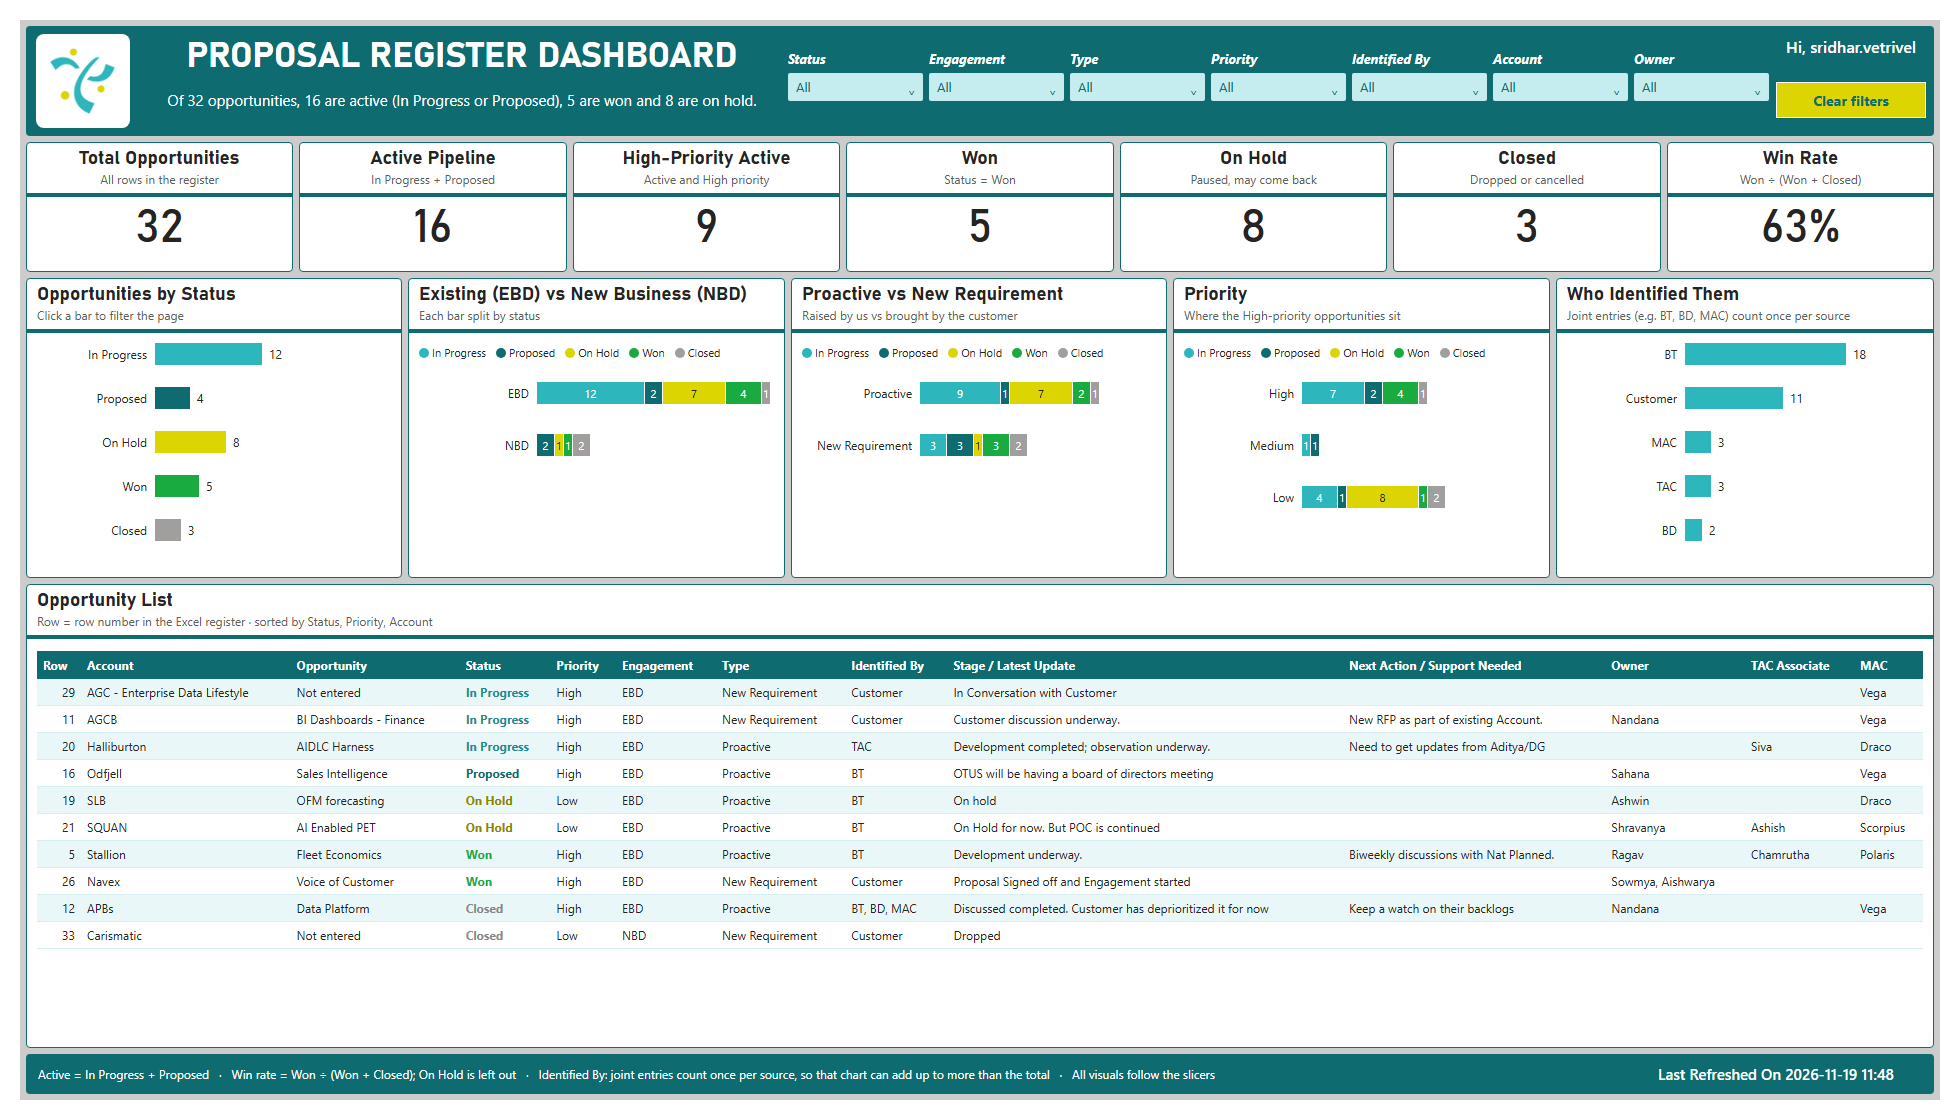

Layout of this report page (visuals, bound fields, positions):
{"tool":"powerbi","page":{"name":"Proposal Register","canvas":[1920,1080],"ordinal":0},"visuals":[{"type":"textbox","box":[6,6,1908,110],"z":0},{"type":"textbox","box":[6,1034,1908,40],"z":1},{"type":"image","box":[16,14,94,94],"z":2000},{"type":"textbox","box":[122,10,660,60],"z":3000},{"type":"card","fields":{"Values":["Proactive Proposal Tracking.Summary Text"]},"box":[122,72,660,38],"z":4000},{"type":"slicer","fields":{"Values":["Proactive Proposal Tracking.Status"]},"box":[788,30,128,66],"z":5000},{"type":"slicer","fields":{"Values":["Proactive Proposal Tracking.Engagement"]},"box":[922,30,128,66],"z":6000},{"type":"slicer","fields":{"Values":["Proactive Proposal Tracking.Type"]},"box":[1056,30,128,66],"z":7000},{"type":"slicer","fields":{"Values":["Proactive Proposal Tracking.Priority"]},"box":[1190,30,128,66],"z":8000},{"type":"slicer","fields":{"Values":["Identified By Source.Source"]},"box":[1324,30,128,66],"z":9000},{"type":"slicer","fields":{"Values":["Proactive Proposal Tracking.Account Name"]},"box":[1458,30,128,66],"z":10000},{"type":"slicer","fields":{"Values":["Proactive Proposal Tracking.Opportunity Owner"]},"box":[1592,30,133,66],"z":11000},{"type":"card","fields":{"Values":["Proactive Proposal Tracking.Greeting"]},"box":[1731,16,175,36],"z":12000},{"type":"actionButton","box":[1731,62,175,36],"z":13000},{"type":"card","title":"Total Opportunities","fields":{"Values":["Proactive Proposal Tracking.Total Opportunities"]},"box":[6,122,267,130],"z":14000},{"type":"card","title":"Active Pipeline","fields":{"Values":["Proactive Proposal Tracking.Active Pipeline"]},"box":[279,122,268,130],"z":15000},{"type":"card","title":"High-Priority Active","fields":{"Values":["Proactive Proposal Tracking.High Priority Active"]},"box":[553,122,267,130],"z":16000},{"type":"card","title":"Won","fields":{"Values":["Proactive Proposal Tracking.Won"]},"box":[826,122,268,130],"z":17000},{"type":"card","title":"On Hold","fields":{"Values":["Proactive Proposal Tracking.On Hold"]},"box":[1100,122,267,130],"z":18000},{"type":"card","title":"Closed","fields":{"Values":["Proactive Proposal Tracking.Closed"]},"box":[1373,122,268,130],"z":19000},{"type":"card","title":"Win Rate","fields":{"Values":["Proactive Proposal Tracking.Win Rate"]},"box":[1647,122,267,130],"z":20000},{"type":"clusteredBarChart","title":"Opportunities by Status","fields":{"Category":["Proactive Proposal Tracking.Status"],"Y":["Proactive Proposal Tracking.Opportunities"]},"box":[6,258,376,300],"z":21000},{"type":"barChart","title":"EBD vs NBD","fields":{"Category":["Proactive Proposal Tracking.Engagement"],"Y":["Proactive Proposal Tracking.Opportunities"],"Series":["Proactive Proposal Tracking.Status"]},"box":[388,258,377,300],"z":22000},{"type":"barChart","title":"Proactive vs New Requirement","fields":{"Category":["Proactive Proposal Tracking.Type"],"Y":["Proactive Proposal Tracking.Opportunities"],"Series":["Proactive Proposal Tracking.Status"]},"box":[771,258,376,300],"z":23000},{"type":"barChart","title":"Priority","fields":{"Category":["Proactive Proposal Tracking.Priority"],"Y":["Proactive Proposal Tracking.Opportunities"],"Series":["Proactive Proposal Tracking.Status"]},"box":[1153,258,377,300],"z":24000},{"type":"clusteredBarChart","title":"Who Identified Them","fields":{"Category":["Identified By Source.Source"],"Y":["Proactive Proposal Tracking.Opportunities"]},"box":[1536,258,378,300],"z":25000},{"type":"tableEx","title":"Opportunity List","fields":{"Values":["Proactive Proposal Tracking.Row","Proactive Proposal Tracking.Account Name","Proactive Proposal Tracking.Opportunity Details","Proactive Proposal Tracking.Status","Proactive Proposal Tracking.Priority","Proactive Proposal Tracking.Engagement","Proactive Proposal Tracking.Type","Proactive Proposal Tracking.Identified By","Proactive Proposal Tracking.Stage","Proactive Proposal Tracking.Next Action / Support Needed","Proactive Proposal Tracking.Opportunity Owner","Proactive Proposal Tracking.TAC Associate"]},"box":[6,564,1908,464],"z":26000},{"type":"card","fields":{"Values":["Proactive Proposal Tracking.Last Refreshed Text"]},"box":[1606,1038,300,32],"z":28000}]}

Visuals, with their boxes in screenshot pixels (x1, y1, x2, y2), scaled from the page's 1920x1080 canvas onto the 1960x1120 screenshot:
textbox: (6, 6, 1954, 120)
textbox: (6, 1072, 1954, 1114)
image: (16, 15, 112, 112)
textbox: (125, 10, 798, 73)
card - Proactive Proposal Tracking.Summary Text: (125, 75, 798, 114)
slicer - Proactive Proposal Tracking.Status: (804, 31, 935, 100)
slicer - Proactive Proposal Tracking.Engagement: (941, 31, 1072, 100)
slicer - Proactive Proposal Tracking.Type: (1078, 31, 1209, 100)
slicer - Proactive Proposal Tracking.Priority: (1215, 31, 1345, 100)
slicer - Identified By Source.Source: (1352, 31, 1482, 100)
slicer - Proactive Proposal Tracking.Account Name: (1488, 31, 1619, 100)
slicer - Proactive Proposal Tracking.Opportunity Owner: (1625, 31, 1761, 100)
card - Proactive Proposal Tracking.Greeting: (1767, 17, 1946, 54)
actionButton: (1767, 64, 1946, 102)
"Total Opportunities" card: (6, 127, 279, 261)
"Active Pipeline" card: (285, 127, 558, 261)
"High-Priority Active" card: (565, 127, 837, 261)
"Won" card: (843, 127, 1117, 261)
"On Hold" card: (1123, 127, 1395, 261)
"Closed" card: (1402, 127, 1675, 261)
"Win Rate" card: (1681, 127, 1954, 261)
"Opportunities by Status" clusteredBarChart: (6, 268, 390, 579)
"EBD vs NBD" barChart: (396, 268, 781, 579)
"Proactive vs New Requirement" barChart: (787, 268, 1171, 579)
"Priority" barChart: (1177, 268, 1562, 579)
"Who Identified Them" clusteredBarChart: (1568, 268, 1954, 579)
"Opportunity List" tableEx: (6, 585, 1954, 1066)
card - Proactive Proposal Tracking.Last Refreshed Text: (1639, 1076, 1946, 1110)
